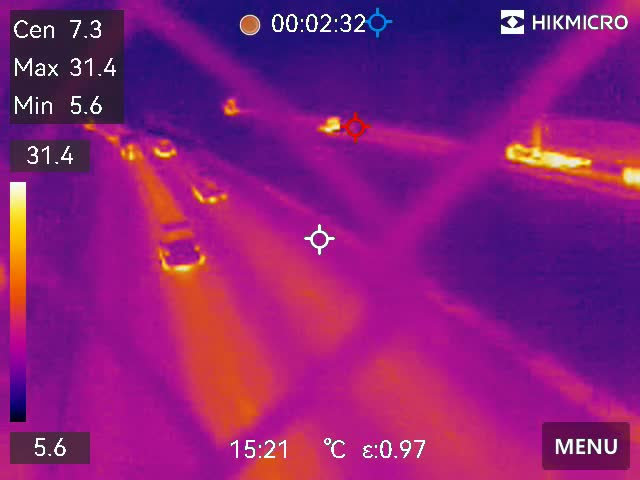heavyTruck: (503, 109, 640, 186)
